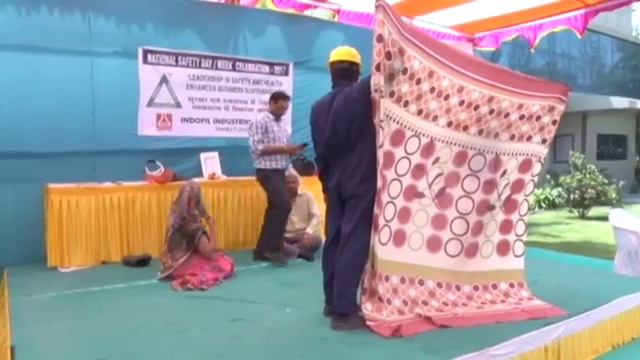helmet: (326, 43, 363, 66)
helmet_off: (267, 92, 290, 119), (180, 182, 203, 209), (283, 171, 300, 196)
helmet_on: (324, 44, 363, 85)
person: (313, 42, 377, 331), (249, 92, 296, 268), (160, 179, 231, 289), (279, 156, 322, 265)
